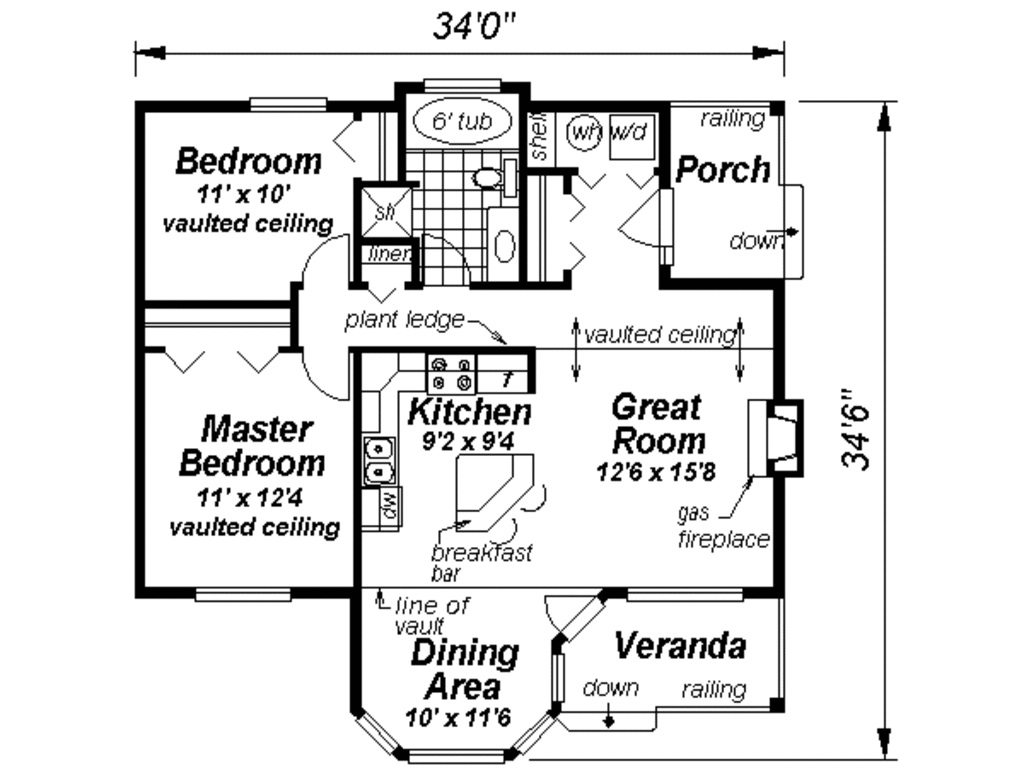door: (615, 174, 679, 267), (295, 224, 362, 288), (296, 342, 356, 406)
kitchen_bar: (438, 437, 556, 561)
large_sink: (460, 153, 527, 204)
small_sink: (484, 198, 532, 280)
tub: (399, 82, 528, 153)
twin_sink: (354, 424, 414, 485)
window: (356, 710, 568, 769), (627, 572, 754, 610), (190, 579, 309, 611), (537, 648, 579, 716), (240, 88, 329, 118), (415, 70, 504, 93)
